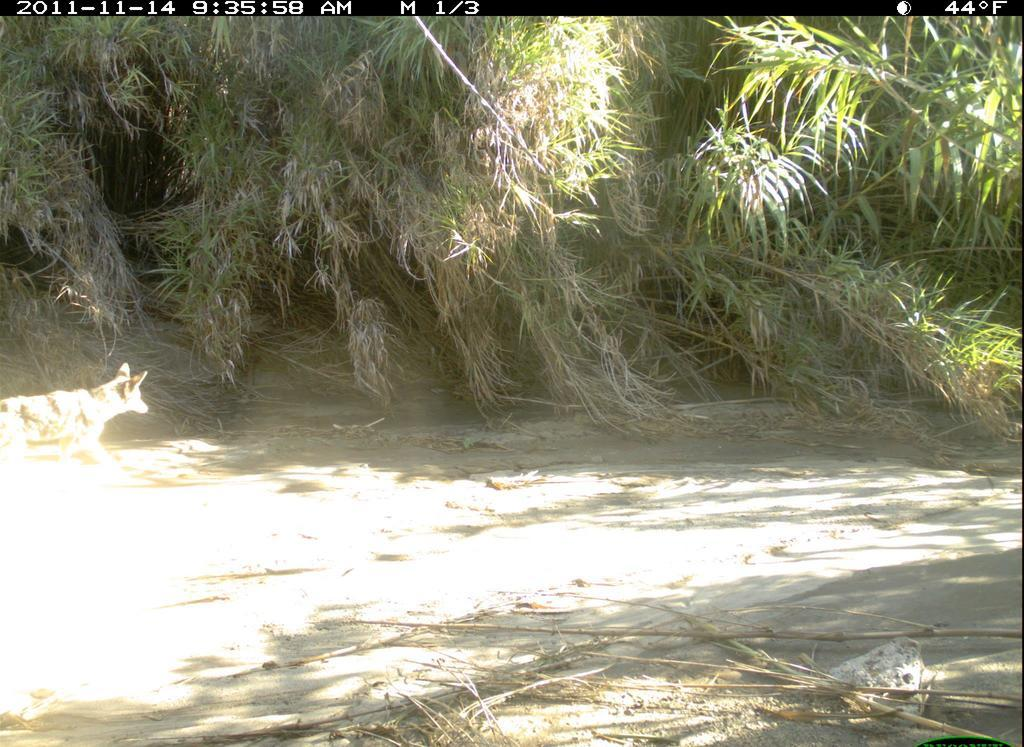coyote: (3, 361, 154, 477)
